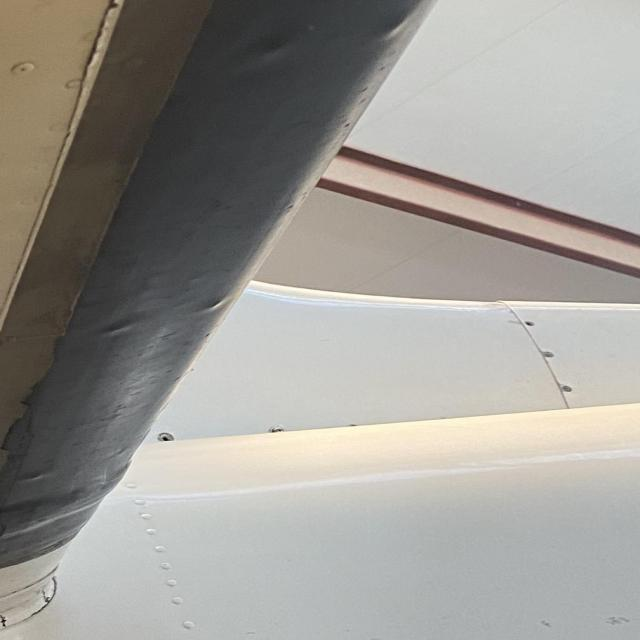Paint-off: (534, 615, 564, 635), (602, 611, 633, 628)
